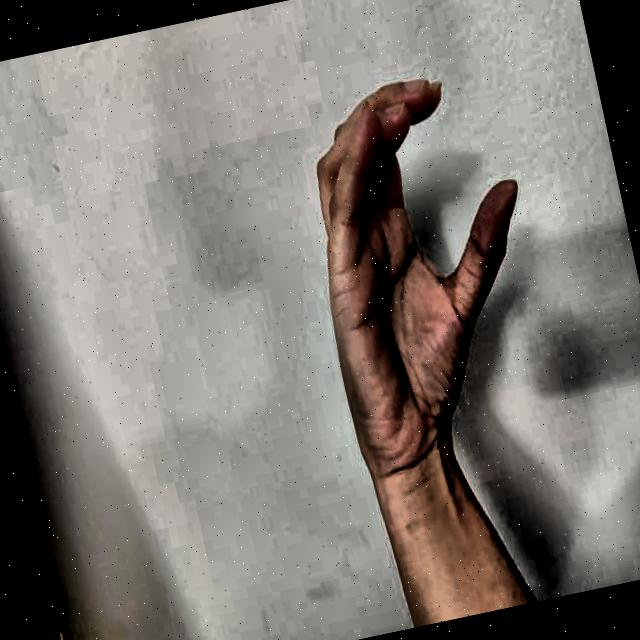A: (259, 22, 603, 510)
